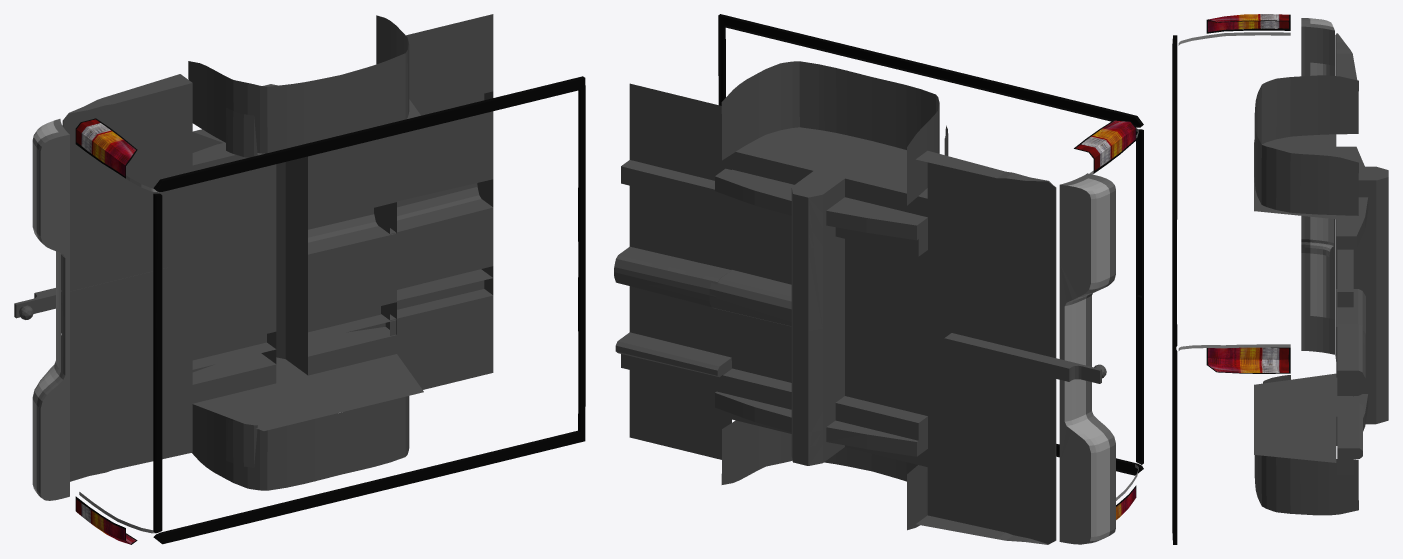
File: details.obj
3 views of the same model, side by side, from view 1: azimuth 30°, elevation 25°; view 2: azimuth 150°, elevation 25°; view 3: azimuth 270°, elevation 25° (orthographic). The views are drawn at different scales.
Visible parts, largest first — view 1: 20_-_Default, 10_-_Default, 11_-_Default, 7_-_Default, 1_-_Default; view 2: 20_-_Default, 11_-_Default, 10_-_Default, 7_-_Default, 1_-_Default; view 3: 20_-_Default, 11_-_Default, 10_-_Default, 7_-_Default, 1_-_Default.
Boxes of the visible parts, x1=… form: 20_-_Default: x1=14, y1=14, x2=493, y2=490; 10_-_Default: x1=75, y1=76, x2=585, y2=544; 11_-_Default: x1=36, y1=119, x2=69, y2=500; 7_-_Default: x1=32, y1=120, x2=158, y2=533; 1_-_Default: x1=76, y1=119, x2=135, y2=544; 20_-_Default: x1=614, y1=61, x2=1106, y2=544; 11_-_Default: x1=1059, y1=173, x2=1115, y2=544; 10_-_Default: x1=718, y1=14, x2=1143, y2=506; 7_-_Default: x1=1064, y1=128, x2=1138, y2=543; 1_-_Default: x1=1076, y1=120, x2=1135, y2=519; 20_-_Default: x1=1254, y1=33, x2=1388, y2=515; 11_-_Default: x1=1301, y1=18, x2=1334, y2=354; 10_-_Default: x1=1172, y1=14, x2=1290, y2=544; 7_-_Default: x1=1178, y1=18, x2=1333, y2=350; 1_-_Default: x1=1208, y1=14, x2=1288, y2=372.
Size of the model in its own units: 2.44 by 1.98 by 1.07.
Materials: 5 (1 with a texture image).
